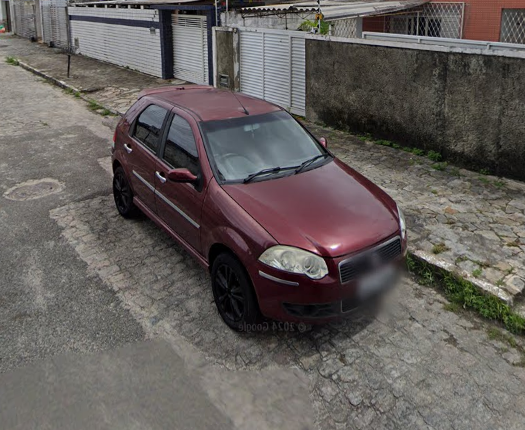car: (108, 81, 411, 333)
